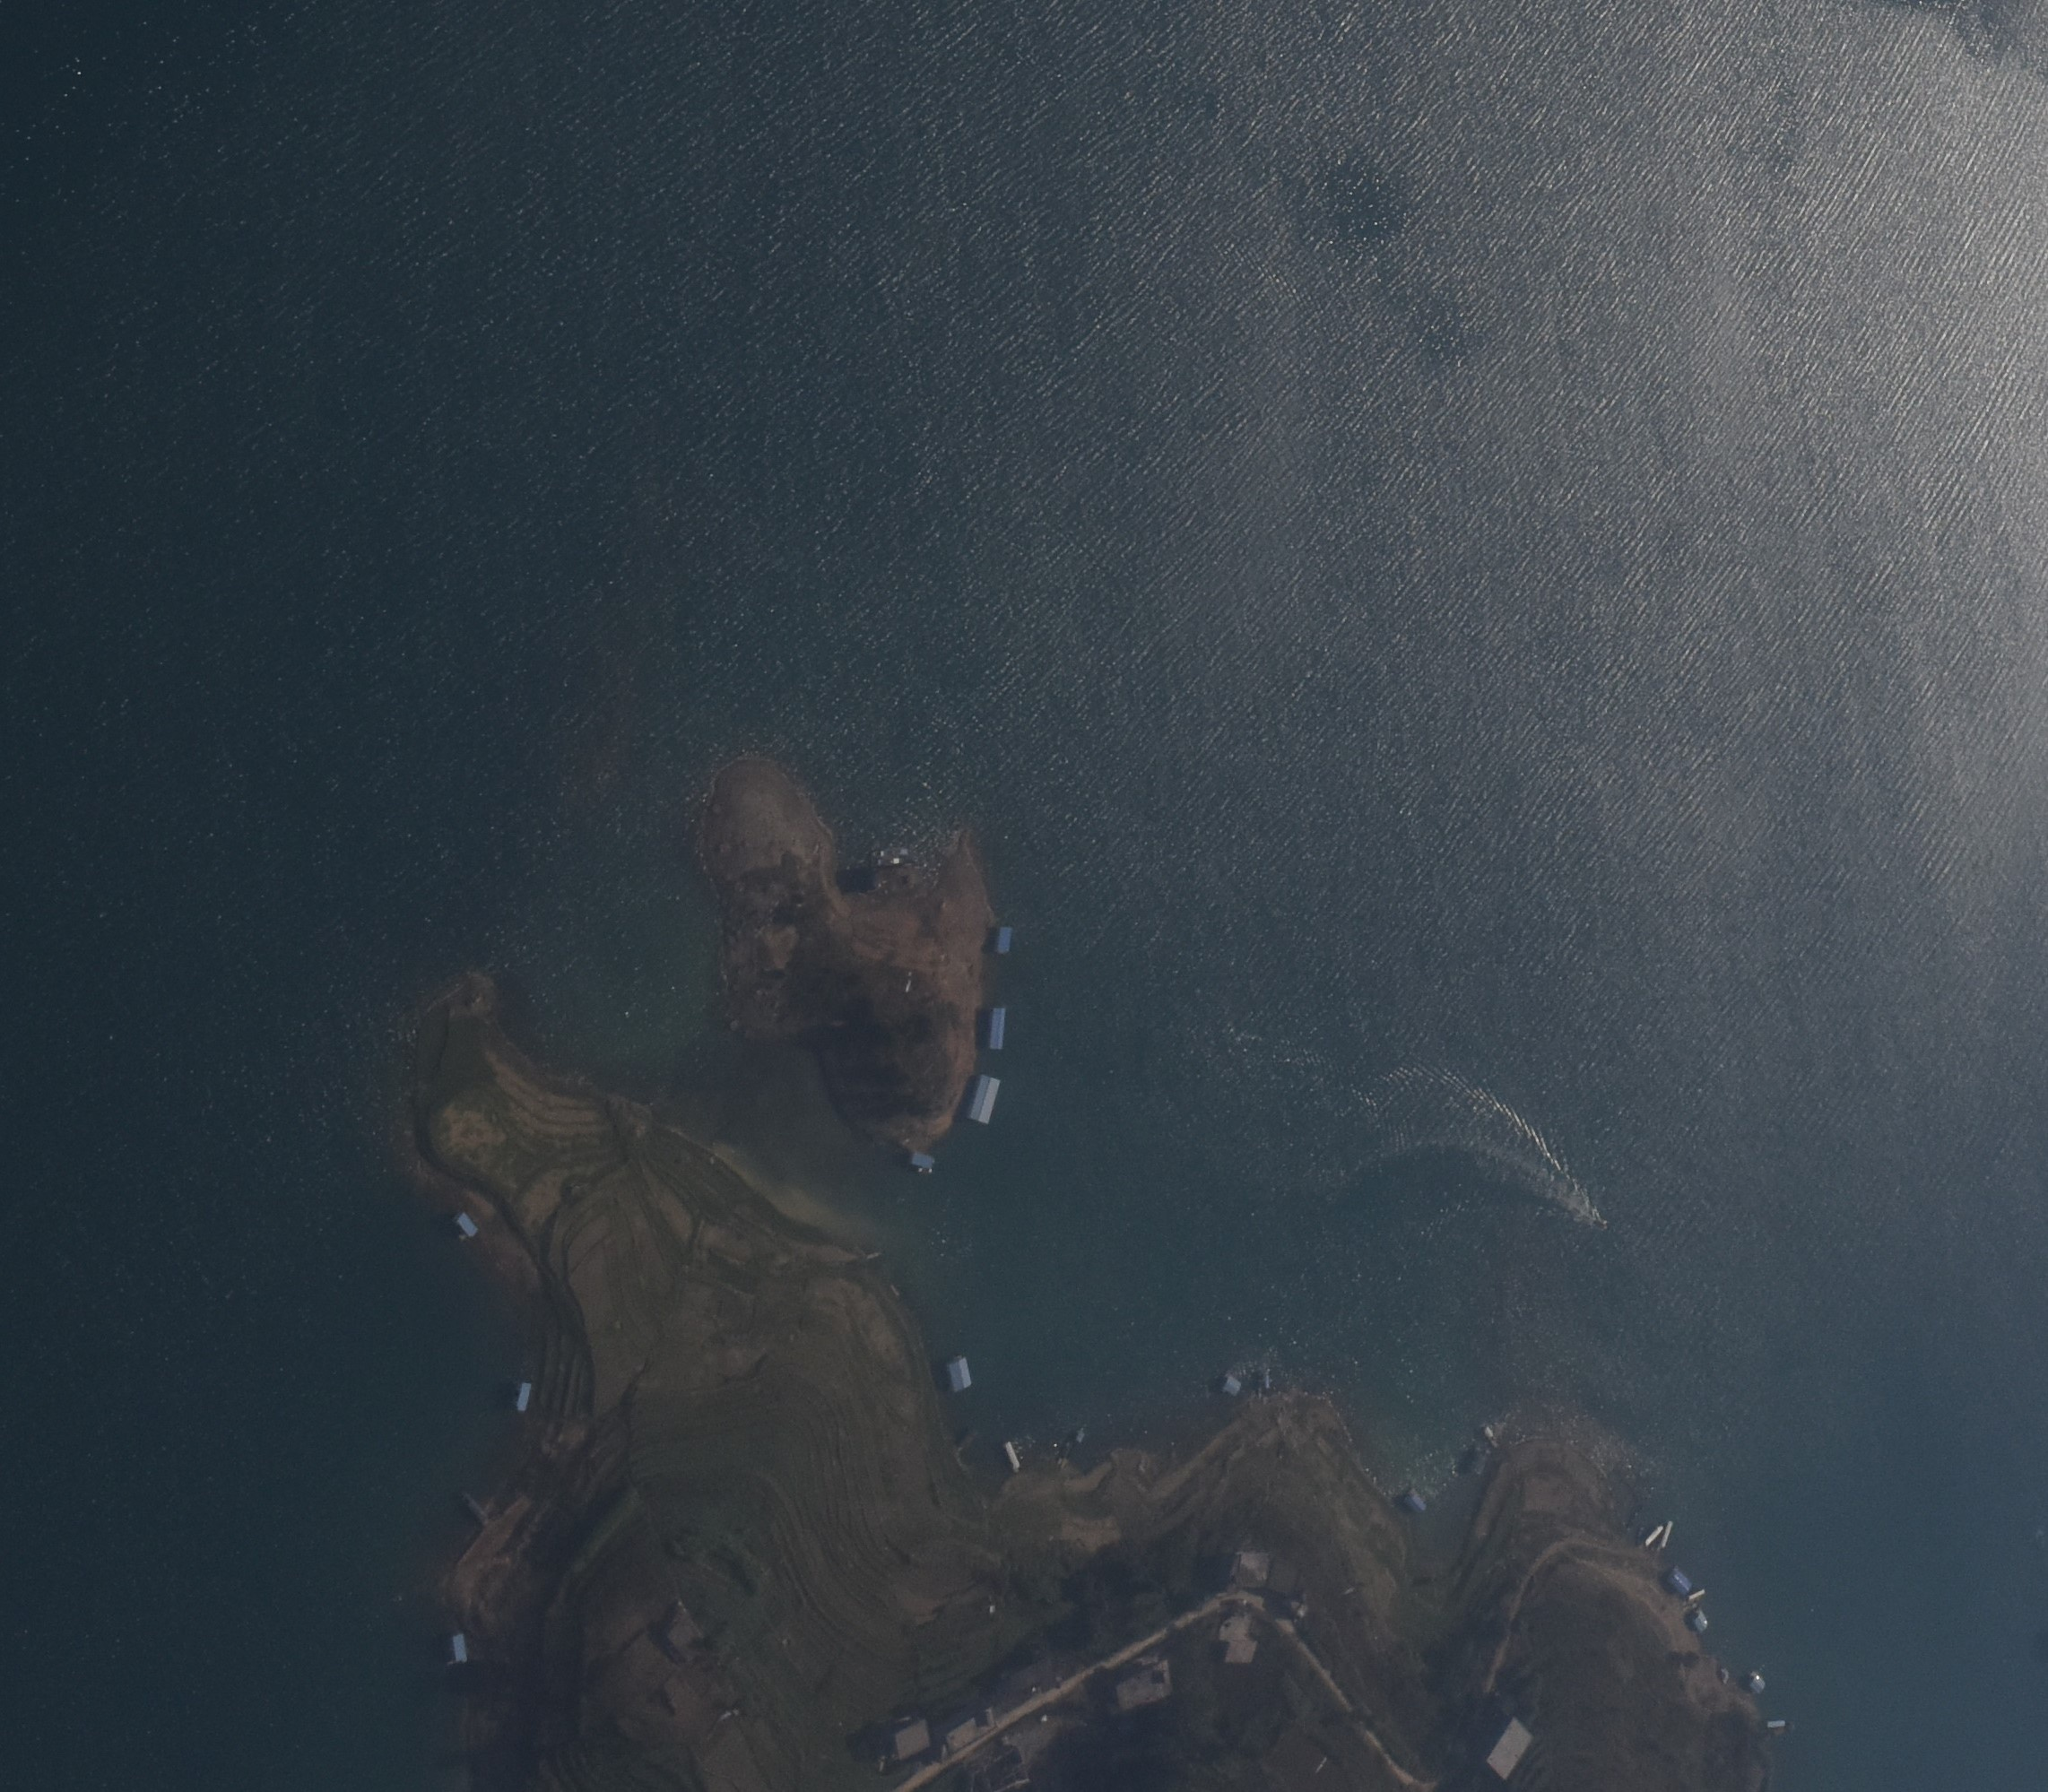building: (1231, 1546, 1304, 1599), (1484, 1715, 1534, 1783), (965, 1745, 1029, 1790), (1115, 1658, 1172, 1707), (1216, 1606, 1263, 1663), (871, 843, 920, 897), (946, 1707, 996, 1750), (893, 1721, 932, 1757)
prefabricated-house: (965, 1073, 1000, 1125), (947, 1355, 973, 1391), (1665, 1566, 1693, 1595), (989, 1005, 1005, 1052), (444, 1634, 467, 1665), (994, 921, 1014, 956), (911, 1148, 937, 1172), (455, 1212, 479, 1238), (1402, 1487, 1426, 1512), (1468, 1447, 1489, 1475), (515, 1381, 533, 1414), (1219, 1376, 1242, 1397), (1693, 1607, 1708, 1635), (1748, 1674, 1764, 1693), (1764, 1719, 1787, 1729)
ship: (460, 1489, 491, 1527), (1057, 1432, 1076, 1466), (1001, 1440, 1021, 1473), (1482, 1426, 1499, 1451), (1646, 1524, 1663, 1548), (1661, 1522, 1674, 1552), (1592, 1216, 1609, 1229), (1076, 1426, 1087, 1444), (1263, 1369, 1270, 1390)
